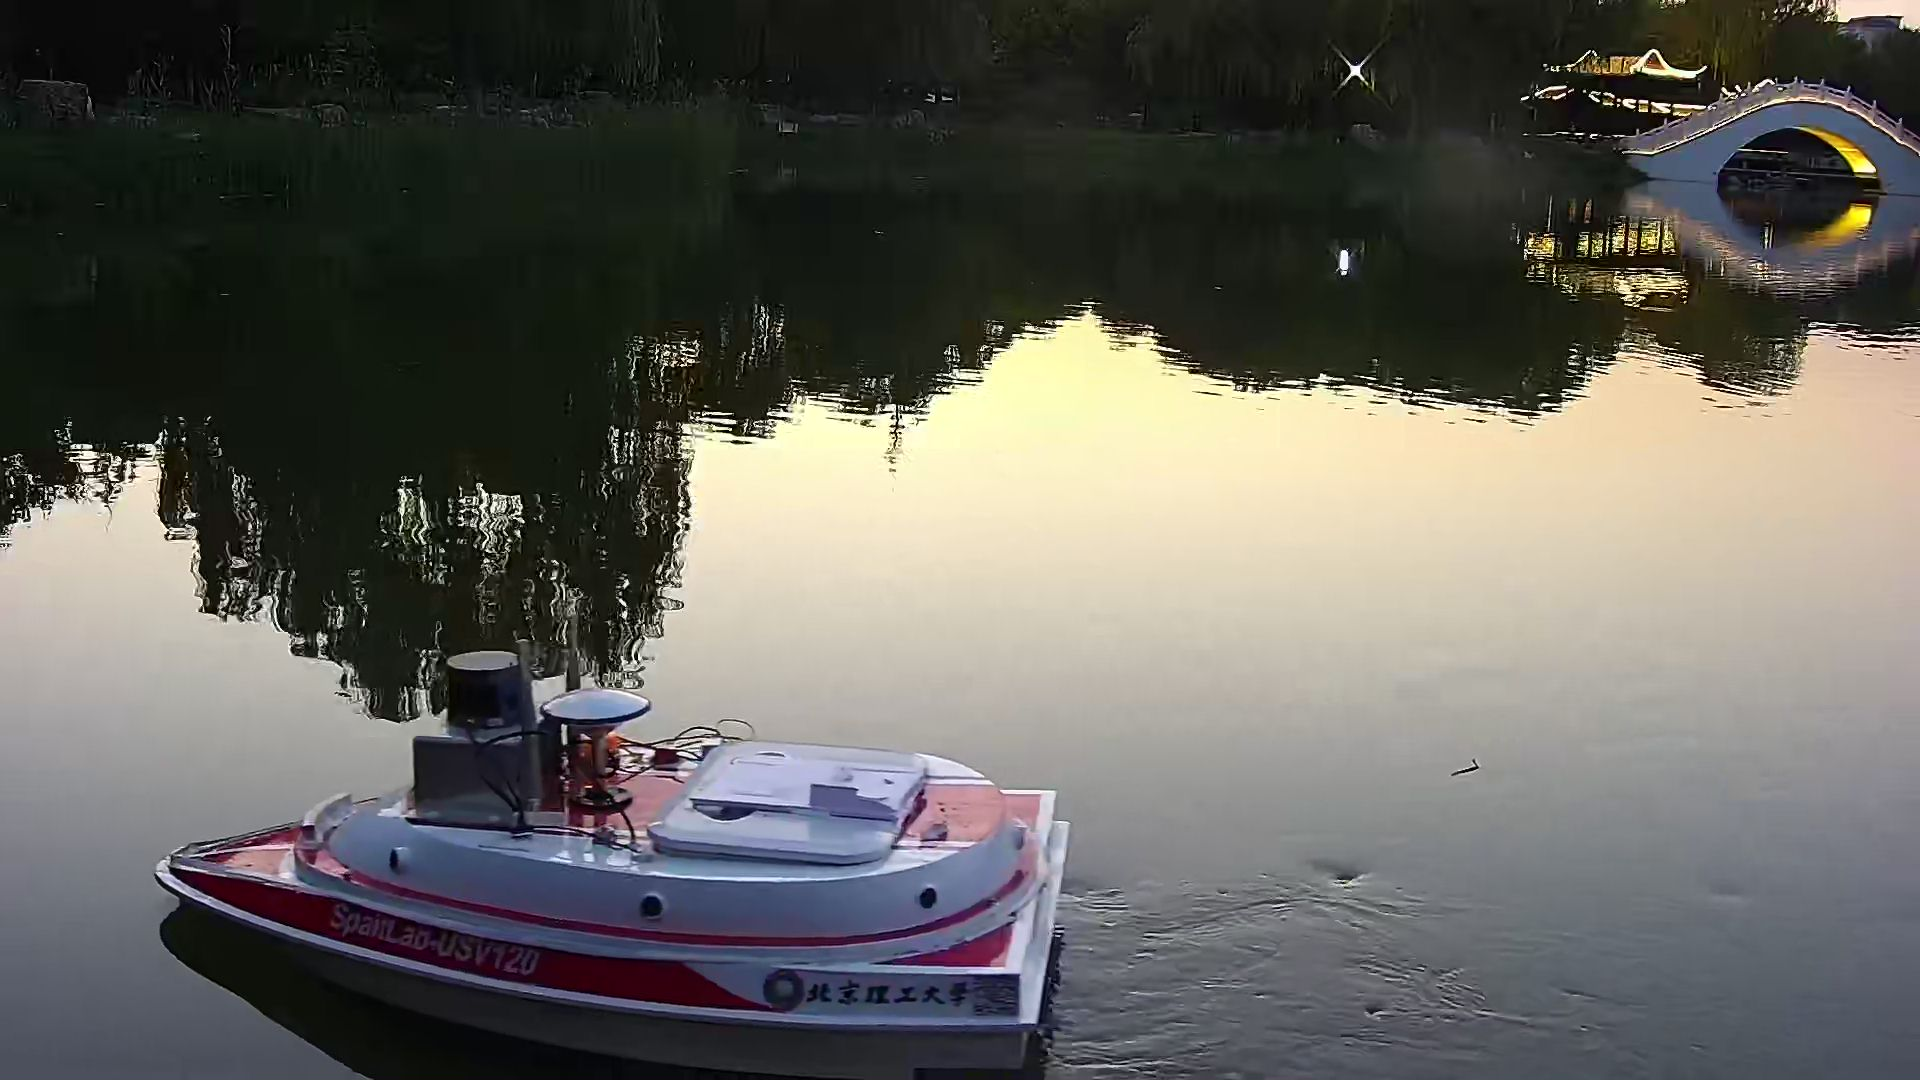boat: (148, 622, 1083, 1080)
bridge: (1607, 71, 1920, 196)
